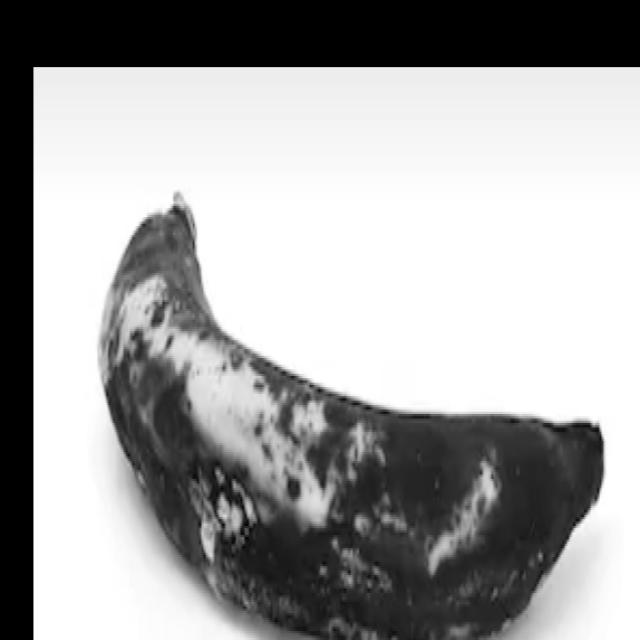Rotten: (89, 179, 620, 640)
